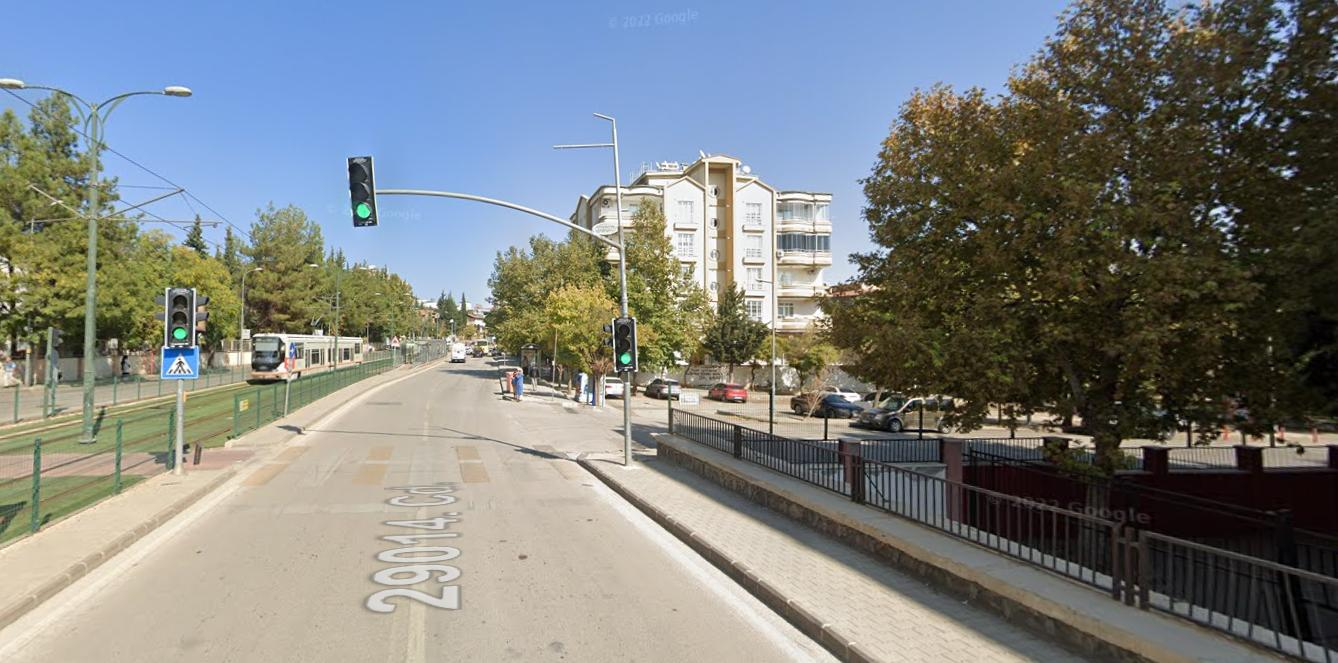greenlight: (346, 158, 380, 227), (166, 286, 193, 347), (613, 317, 636, 368)
turnright: (289, 343, 297, 358)
